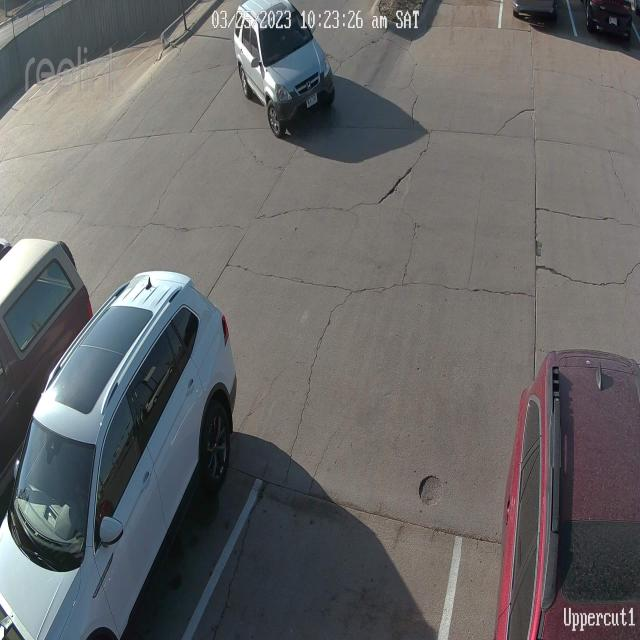Car: (227, 2, 337, 138)
Empty-slot: (181, 462, 462, 640), (405, 0, 504, 56)
Slot-Occupied: (0, 271, 237, 640), (494, 355, 640, 640), (0, 238, 93, 459), (584, 0, 638, 60), (515, 0, 569, 46)
